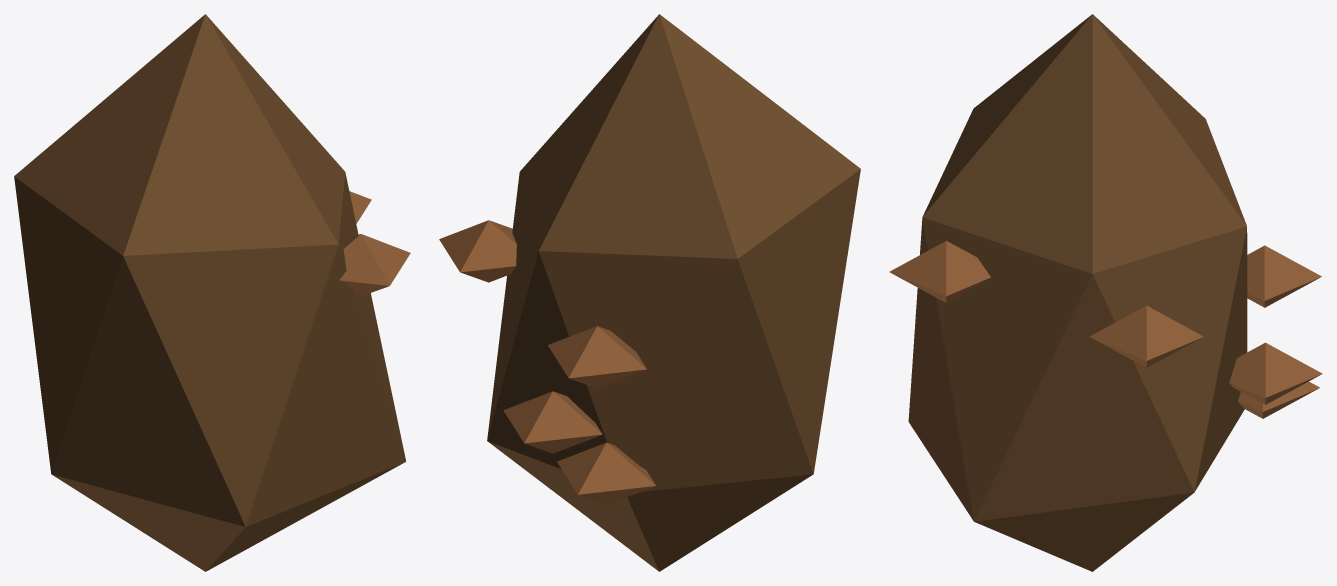
Rendered from HS_LP_Ground_Pinecone_01.fbx.
3 views of the same model, side by side, from view 1: azimuth 30°, elevation 25°; view 2: azimuth 150°, elevation 25°; view 3: azimuth 270°, elevation 25° (orthographic).
Parts seen in each view (by area): view 1: HS_LP_Ground_Pinecone_01; view 2: HS_LP_Ground_Pinecone_01; view 3: HS_LP_Ground_Pinecone_01.
Part boxes in pixels (x1,y1,x2,y2): HS_LP_Ground_Pinecone_01: (14,14,410,571); HS_LP_Ground_Pinecone_01: (439,14,860,571); HS_LP_Ground_Pinecone_01: (889,14,1322,571).
Size of the model in its own units: 12.08 by 18.52 by 13.05.
